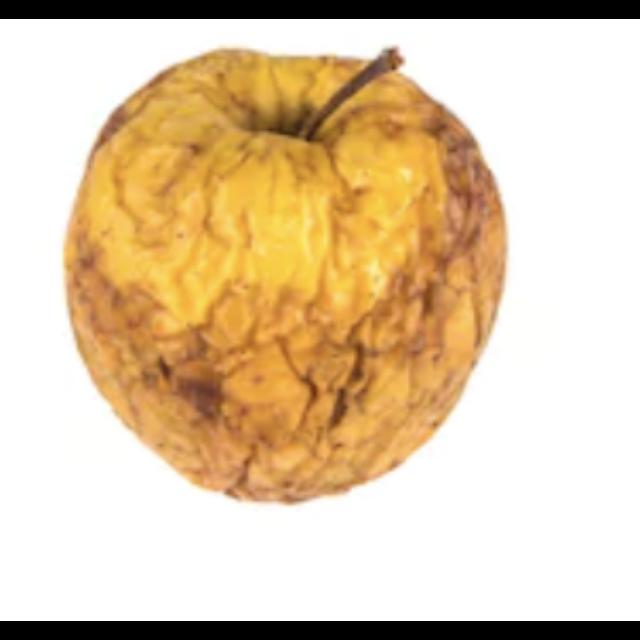Apel Tidak Segar: (62, 52, 514, 504)
